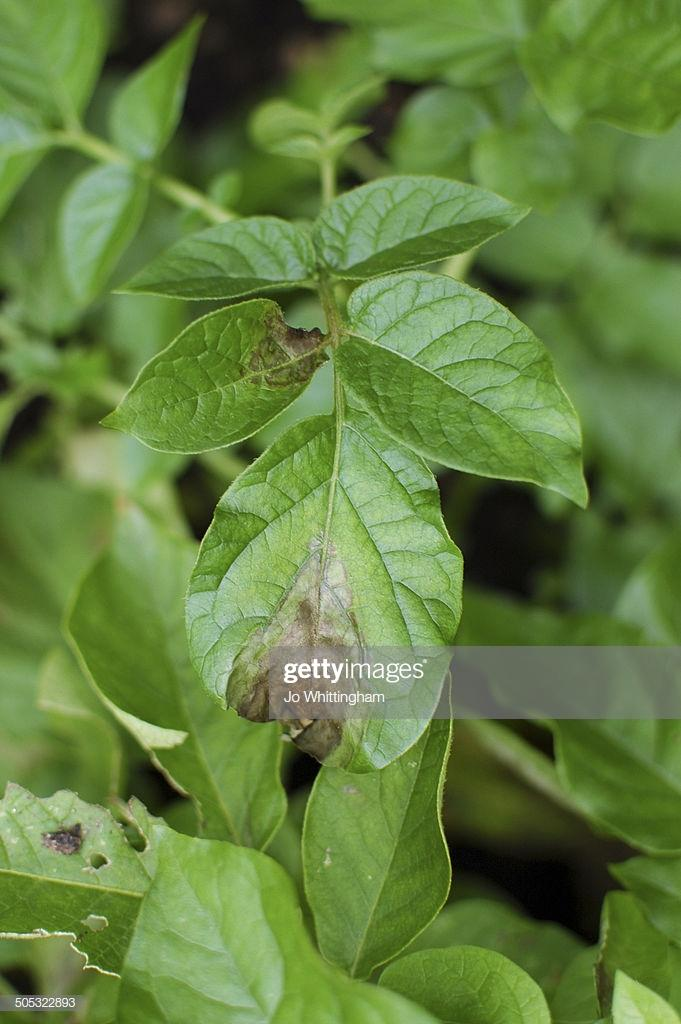Potato leaf late blight: (181, 404, 466, 787), (3, 778, 326, 1024), (90, 295, 329, 465)
